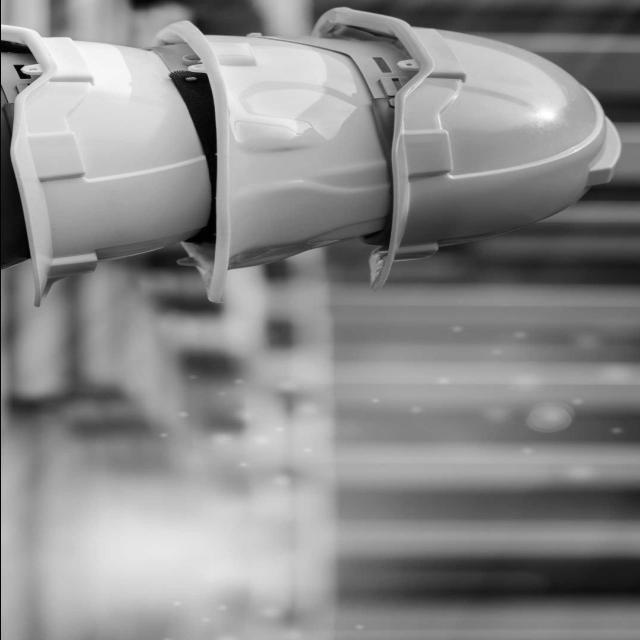safety_helmet: (366, 54, 620, 289), (0, 23, 177, 264)
